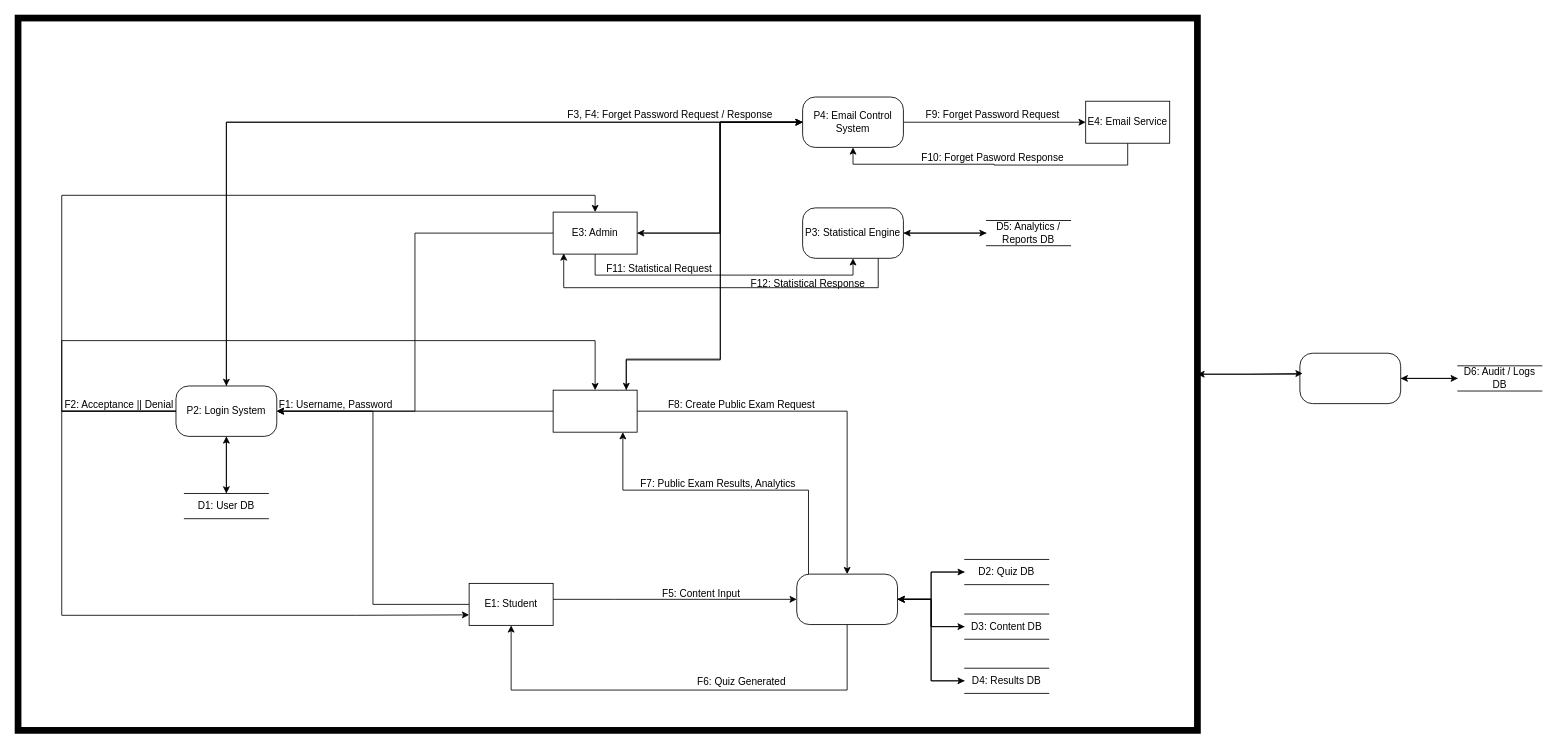
The diagram is 1557 pixels wide and 748 high, and some of its shapes have lost their labels. The centre of each missing label's shape, as x and y in pixels:
"E2: Instructor" goes at point (594, 410).
"P1: Quiz AI Generation Engine" goes at point (847, 599).
"P5: Error Control System" goes at point (1350, 378).
